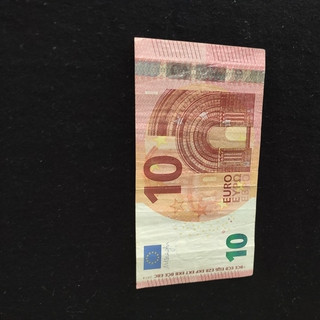10EUROFront: (133, 35, 265, 289)
